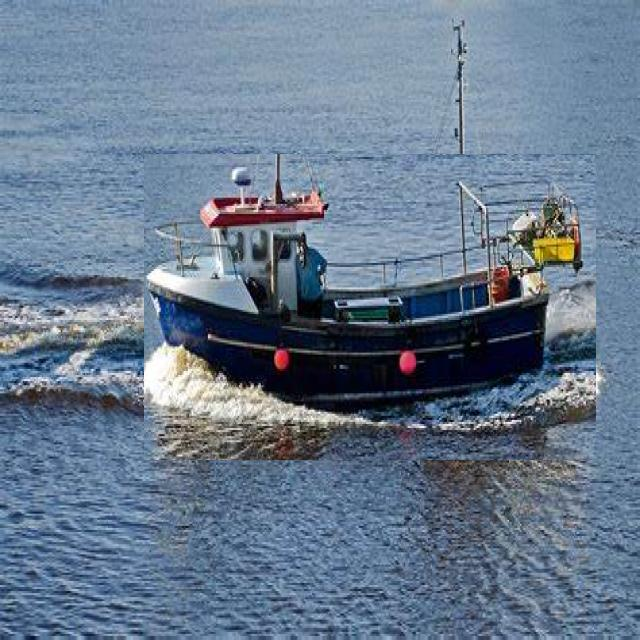Fishing Boat: (144, 154, 596, 460)
